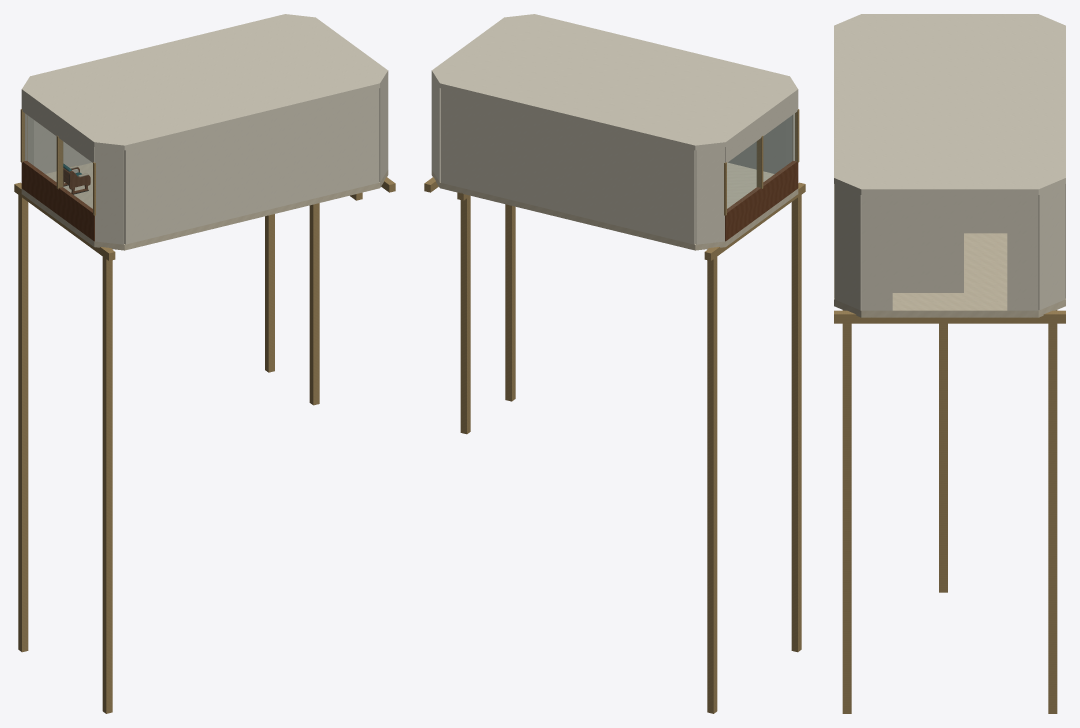
File: D04_PORT_AFT_HOME_936_r001.glb
3 views of the same model, side by side, from view 1: azimuth 30°, elevation 25°; view 2: azimuth 150°, elevation 25°; view 3: azimuth 270°, elevation 25° (orthographic). The views are drawn at different scales.
Visible parts, largest first — view 1: PA936_D04SH931_Roof, PA936_D04SH931_Shell_7, PA936_D04SH931_Pier_1, PA936_D04SH931_Pier_2, PA936_D04SH931_Floor, PA936_D04SH931_GardenGlass, PA936_D04SH931_Shell_0, PA936_D04SH931_GardenDado, PA936_D04SH931_Pier_3, PA936_D04SH931_Pier_4, PA936_D04SH931_Shell_3, PA936_D04SH931_GardenHead (+1 smaller); view 2: PA936_D04SH931_Roof, PA936_D04SH931_Shell_3, PA936_D04SH931_Pier_2, PA936_D04SH931_Pier_1, PA936_D04SH931_Floor, PA936_D04SH931_GardenGlass, PA936_D04SH931_Shell_2, PA936_D04SH931_Pier_4, PA936_D04SH931_GardenDado, PA936_D04SH931_Pier_3, PA936_D04SH931_Shell_7, PA936_D04SH931_GardenHead (+1 smaller); view 3: PA936_D04SH931_Roof, PA936_D04SH931_Floor, PA936_D04SH931_EntryHeader, PA936_D04SH931_BathDogleg, PA936_D04SH931_Pier_1, PA936_D04SH931_EntryWall_0, PA936_D04SH931_EntryWall_1, PA936_D04SH931_Shell_4, PA936_D04SH931_Shell_6, PA936_D04SH931_Pier_4, PA936_D04SH931_Pier_3, PA936_D04SH931_Long_-46.349999999999994 (+1 smaller).
Part boxes in pixels (x1,y1,x2,y2): PA936_D04SH931_Roof: (21,14,388,150); PA936_D04SH931_Shell_7: (124,88,378,244); PA936_D04SH931_Pier_1: (102,247,112,713); PA936_D04SH931_Pier_2: (18,185,28,652); PA936_D04SH931_Floor: (21,162,388,250); PA936_D04SH931_GardenGlass: (23,115,92,210); PA936_D04SH931_Shell_0: (95,147,124,244); PA936_D04SH931_GardenDado: (21,161,94,241); PA936_D04SH931_Pier_3: (309,203,319,405); PA936_D04SH931_Pier_4: (265,214,274,372); PA936_D04SH931_Shell_3: (34,120,91,173); PA936_D04SH931_GardenHead: (21,94,94,162); PA936_D04SH931_Roof: (431,14,798,150); PA936_D04SH931_Shell_3: (441,88,695,244); PA936_D04SH931_Pier_2: (707,247,717,713); PA936_D04SH931_Pier_1: (791,185,801,652); PA936_D04SH931_Floor: (431,162,798,250); PA936_D04SH931_GardenGlass: (727,115,794,210); PA936_D04SH931_Shell_2: (695,147,724,244); PA936_D04SH931_Pier_4: (460,195,470,434); PA936_D04SH931_GardenDado: (725,161,798,241); PA936_D04SH931_Pier_3: (505,204,515,401); PA936_D04SH931_Shell_7: (728,120,785,173); PA936_D04SH931_GardenHead: (725,94,798,162); PA936_D04SH931_Roof: (834,14,1065,195); PA936_D04SH931_Floor: (834,233,1065,317); PA936_D04SH931_EntryHeader: (892,195,1007,233); PA936_D04SH931_BathDogleg: (892,233,963,292); PA936_D04SH931_Pier_1: (842,310,851,713); PA936_D04SH931_EntryWall_0: (861,195,892,310); PA936_D04SH931_EntryWall_1: (1007,195,1038,310); PA936_D04SH931_Shell_4: (1038,184,1064,310); PA936_D04SH931_Shell_6: (835,184,861,310); PA936_D04SH931_Pier_4: (1048,310,1057,592); PA936_D04SH931_Pier_3: (939,323,947,592); PA936_D04SH931_Long_-46.349999999999994: (834,310,1065,323).
Bounding box in the file's own units: 12.92 × 23.78 × 7.2.
36 materials, 21 textured.
